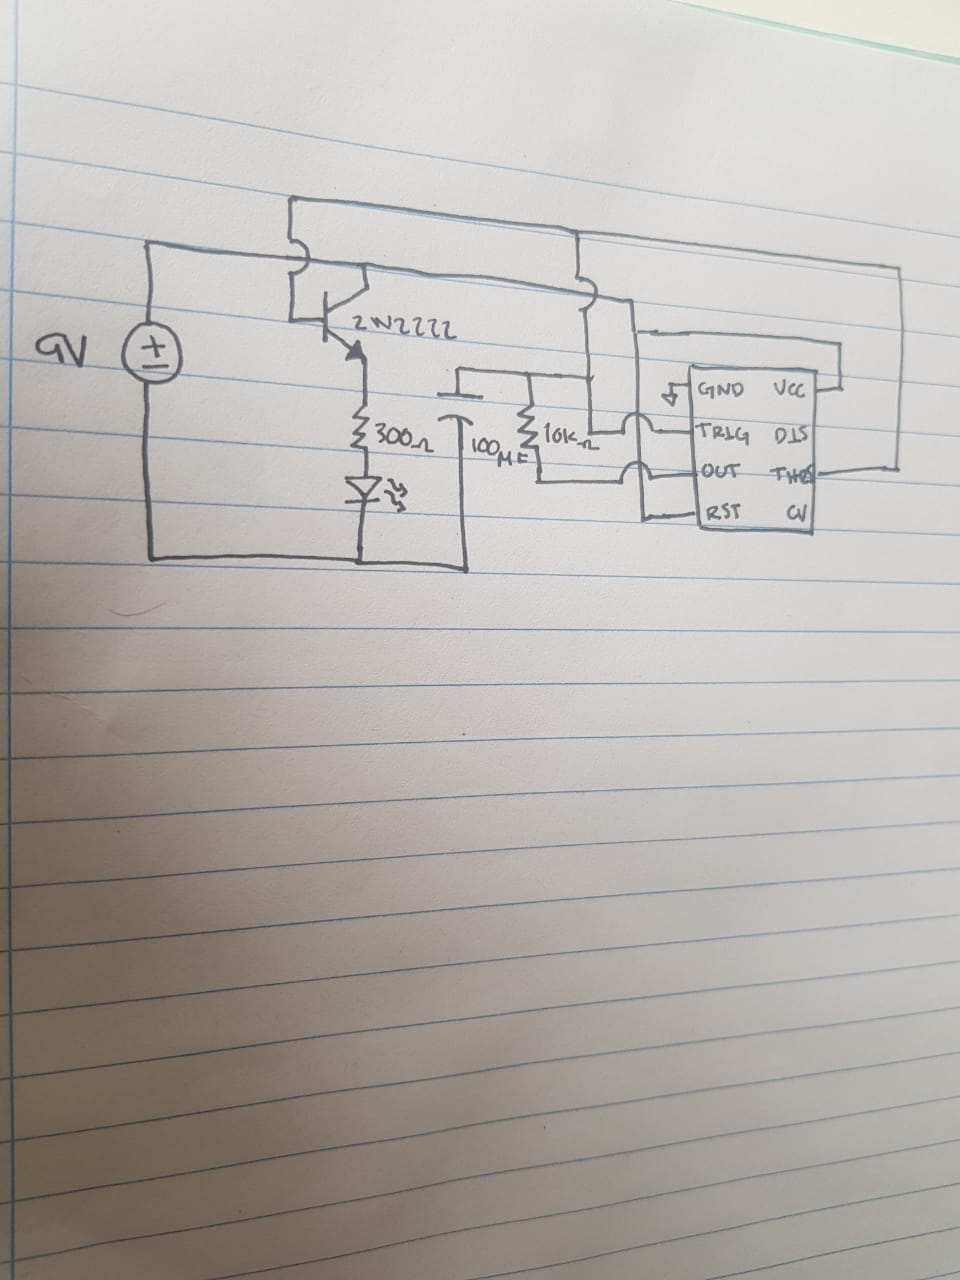capacitor.unpolarized: (430, 383, 488, 432)
crossover: (571, 271, 602, 319), (282, 232, 313, 281), (617, 459, 657, 491), (617, 410, 657, 441)
diode.light_emitting: (340, 470, 411, 515)
gnd: (658, 391, 682, 408)
integrated_cricuit.ne555: (680, 359, 822, 540)
junction: (140, 233, 160, 253), (454, 556, 472, 579), (143, 550, 164, 568), (351, 553, 369, 572), (281, 190, 302, 208), (533, 474, 549, 492), (890, 261, 906, 277), (569, 225, 585, 240), (356, 255, 372, 270), (581, 371, 598, 385), (833, 337, 848, 352), (638, 509, 651, 526), (833, 379, 847, 394), (285, 311, 299, 327), (629, 325, 642, 341), (889, 462, 903, 477), (625, 293, 638, 308), (583, 429, 600, 439), (451, 362, 465, 374), (523, 368, 534, 382), (666, 378, 676, 388)
resistor: (512, 399, 548, 453), (348, 401, 376, 457)
text: (350, 311, 459, 343), (27, 327, 92, 374), (370, 417, 435, 456), (470, 433, 528, 466), (694, 421, 751, 447), (541, 417, 577, 447), (769, 463, 815, 487), (696, 380, 746, 401), (699, 461, 743, 480), (705, 501, 742, 522), (773, 424, 809, 446), (772, 377, 807, 399), (785, 502, 809, 526)
transistor: (319, 284, 372, 364)
voltage.dc: (117, 316, 188, 389)
